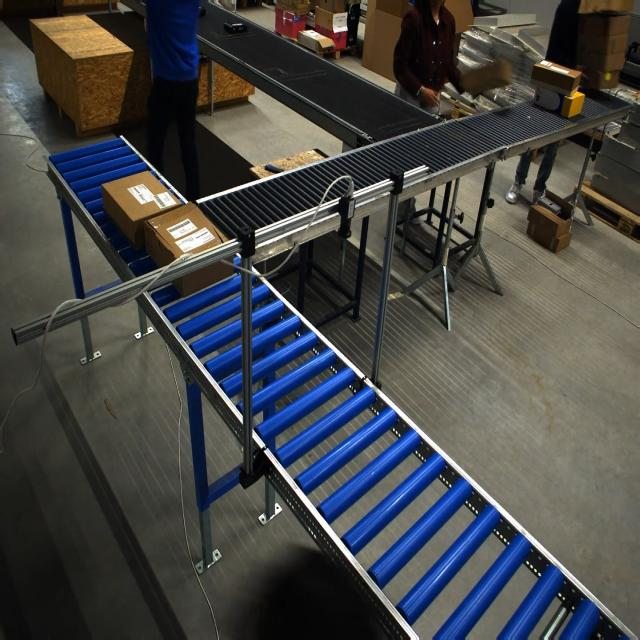box: (143, 203, 234, 294), (100, 171, 181, 249)
product: (223, 22, 247, 34)
